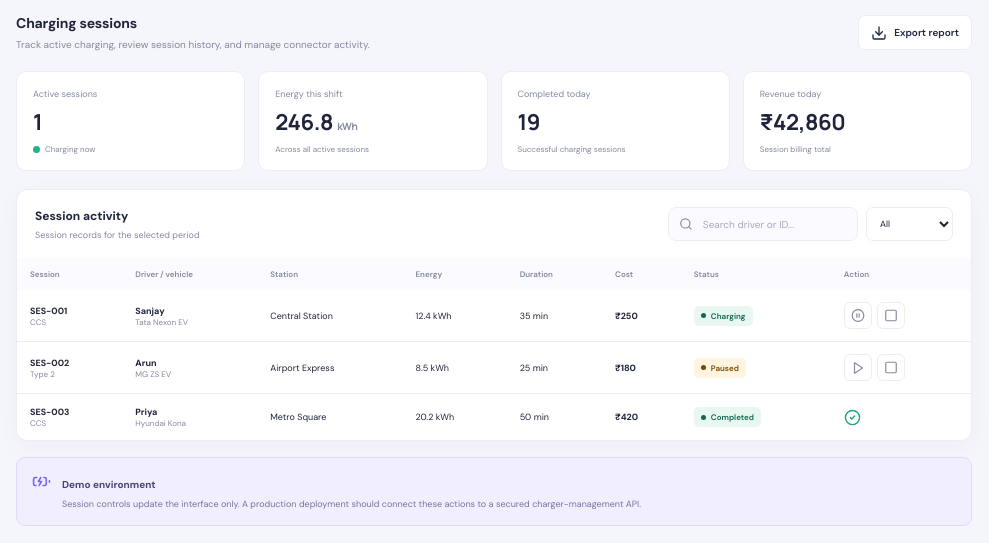
it: Sessions › shows an empty message when no sessions match
Step 1. Type "no-such-driver" into the field named "Search sessions" → (774, 224), box [701, 216, 847, 232]
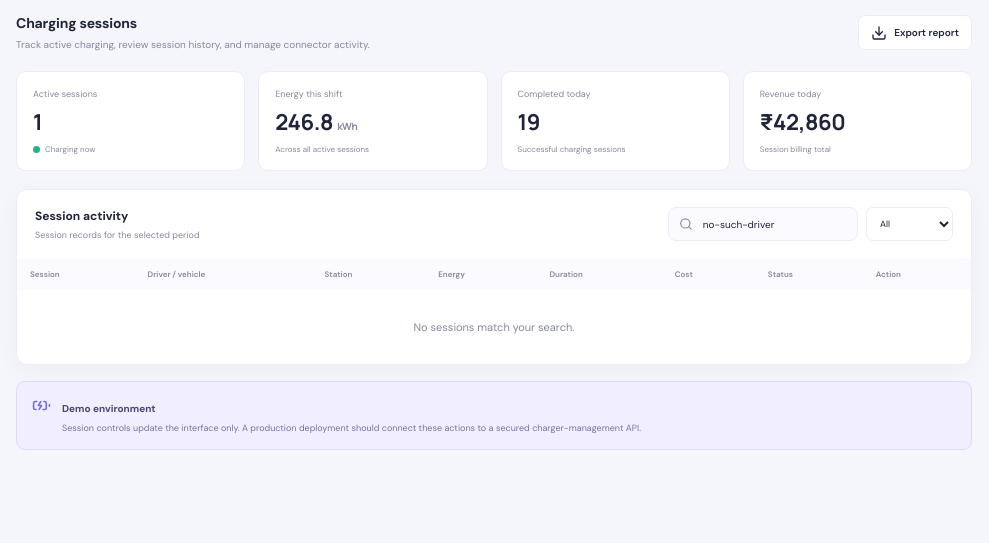
Check: the text "No sessions match your search." is shown, box [414, 320, 574, 334]
